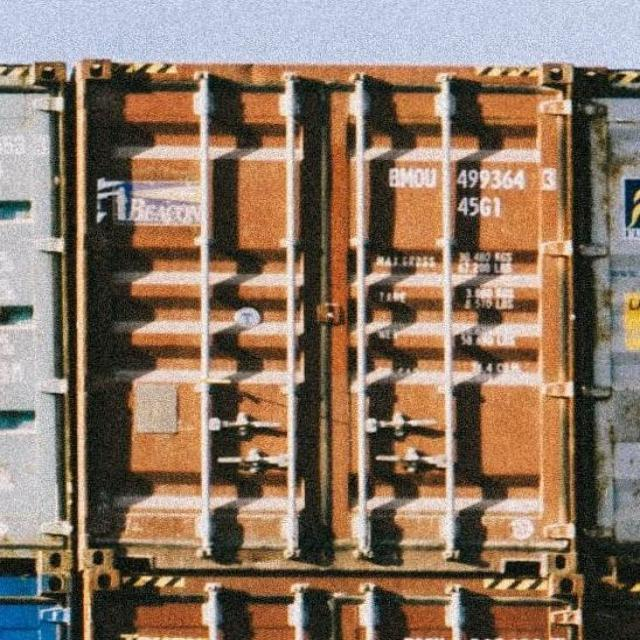ISO: (457, 196, 505, 220)
container_number: (397, 166, 557, 193)
